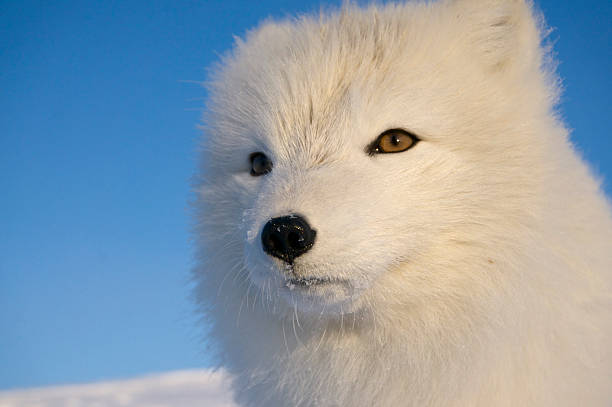arcticfox: (201, 61, 463, 322)
